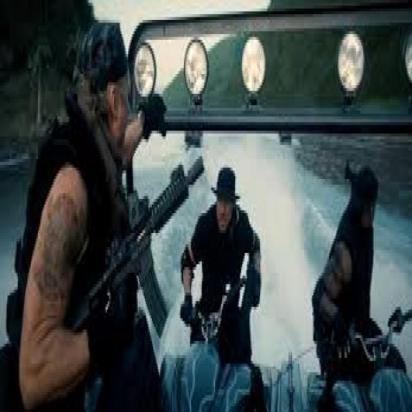Gun: (72, 145, 210, 348)
